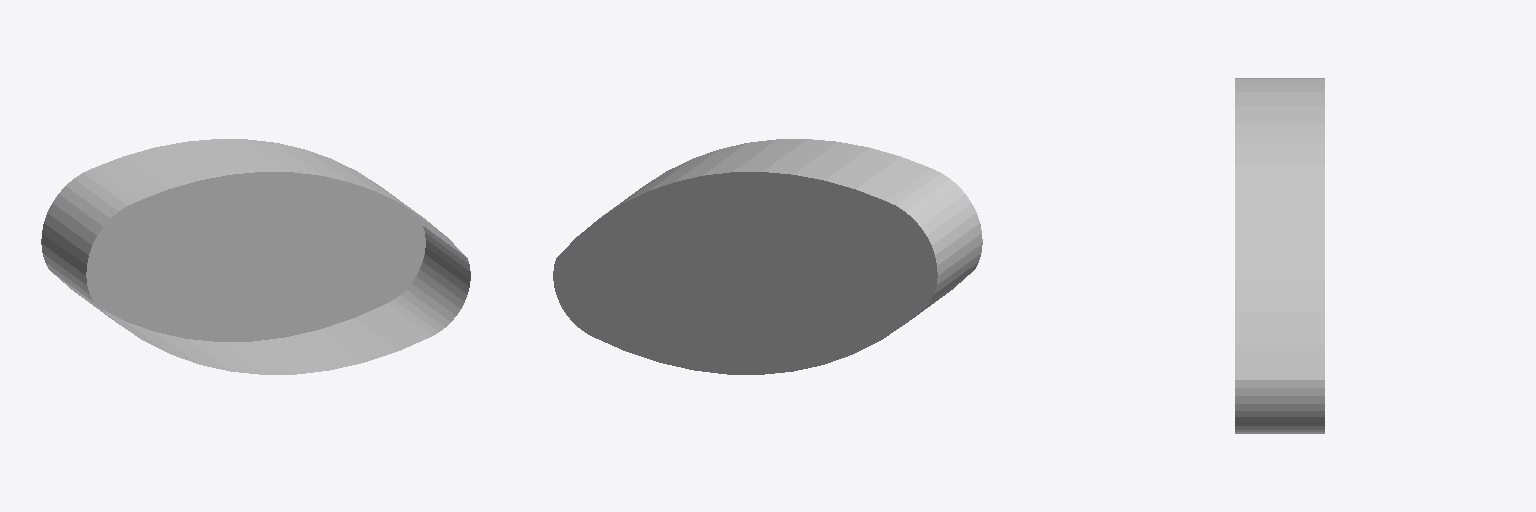
The model's file is original-27.obj.
The picture shows the model from 3 angles: view 1: azimuth 30°, elevation 25°; view 2: azimuth 150°, elevation 25°; view 3: azimuth 270°, elevation 25°; orthographic projection.
Visible parts, largest first — view 1: #ID167; view 2: #ID167; view 3: #ID167.
Boxes of the visible parts, x1,y1,x2,y2 form: #ID167: [41, 139, 470, 374]; #ID167: [553, 139, 982, 374]; #ID167: [1235, 78, 1324, 433].
Size of the model in its own units: 0.1628 by 0.09 by 0.033.